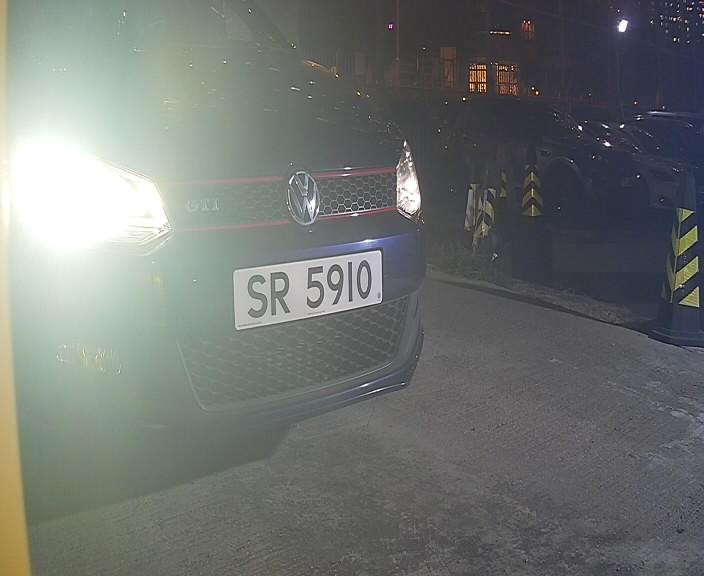Car: (1, 3, 525, 456)
License Plate: (227, 240, 387, 337)
